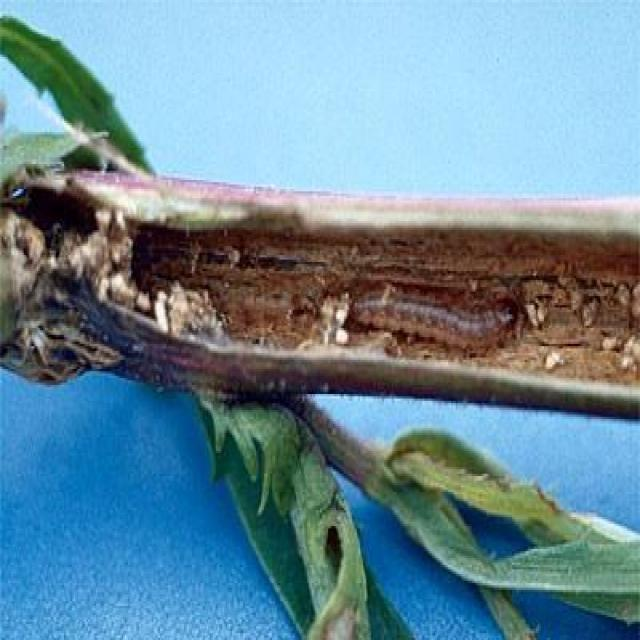cornborer-Larva-: (338, 272, 550, 366)
